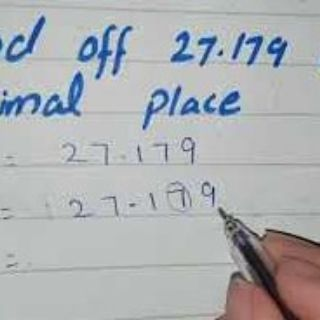.: (126, 199, 136, 209)
1: (147, 191, 160, 210), (133, 140, 144, 162)
2: (66, 193, 95, 221), (60, 139, 87, 163)
7: (86, 137, 115, 166), (101, 191, 123, 217), (150, 139, 171, 163)
9: (178, 132, 198, 164)
